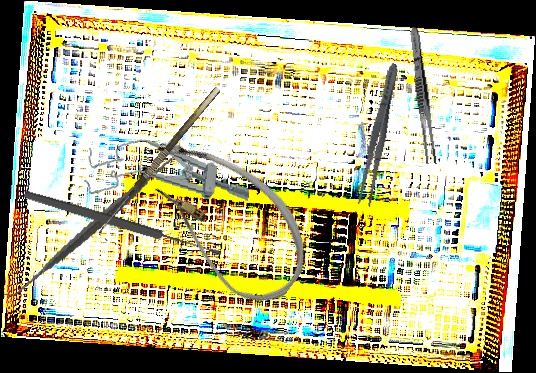Cannula: (114, 118, 332, 320)
Dressing Forceps: (355, 61, 403, 208), (406, 25, 440, 166)
Hook Surgical: (94, 86, 229, 242)
Spatula Surgical: (3, 129, 187, 321)
Speculum: (82, 132, 255, 214)
Surgical Spoon: (21, 188, 224, 260)
